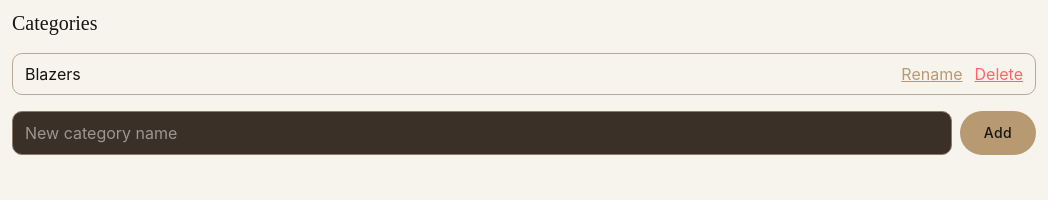
it: AdminCategoryManager › shows an inline error when adding a category fails
Check: the text "Blazers" is shown, box 25,64 -> 81,84
Type "Jackets" into the field labelled "New category name". click: (482, 133)
box: 12,111 -> 952,155
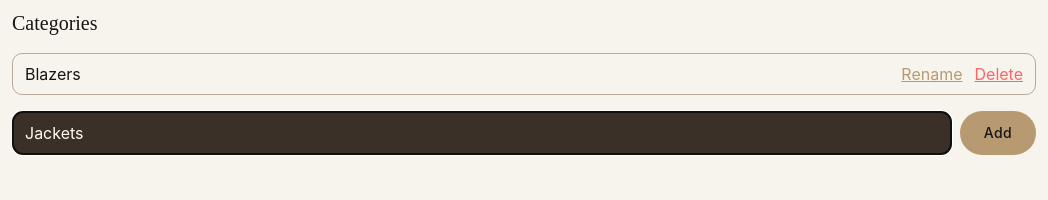
Click the button "Add". click: (998, 133)
box: 960,111 -> 1036,155
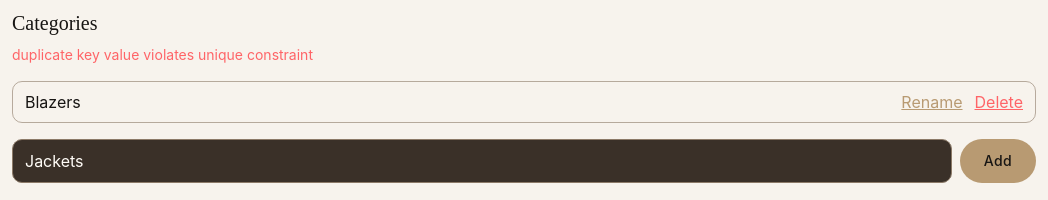
Check: the message reads "duplicate key value violates unique constraint", box 12,46 -> 313,63
